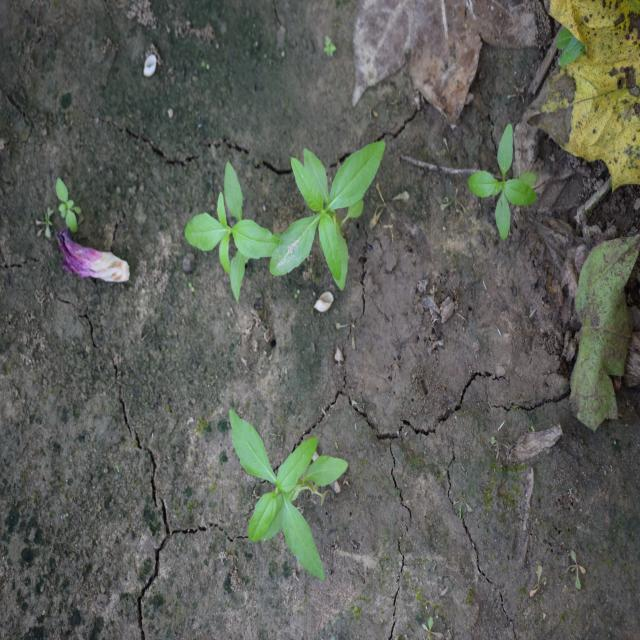Eclipta: (228, 409, 349, 582), (269, 139, 387, 292), (184, 161, 282, 303), (466, 124, 539, 244)
